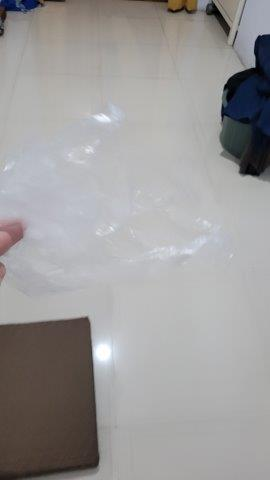plastik: (5, 105, 246, 328)
